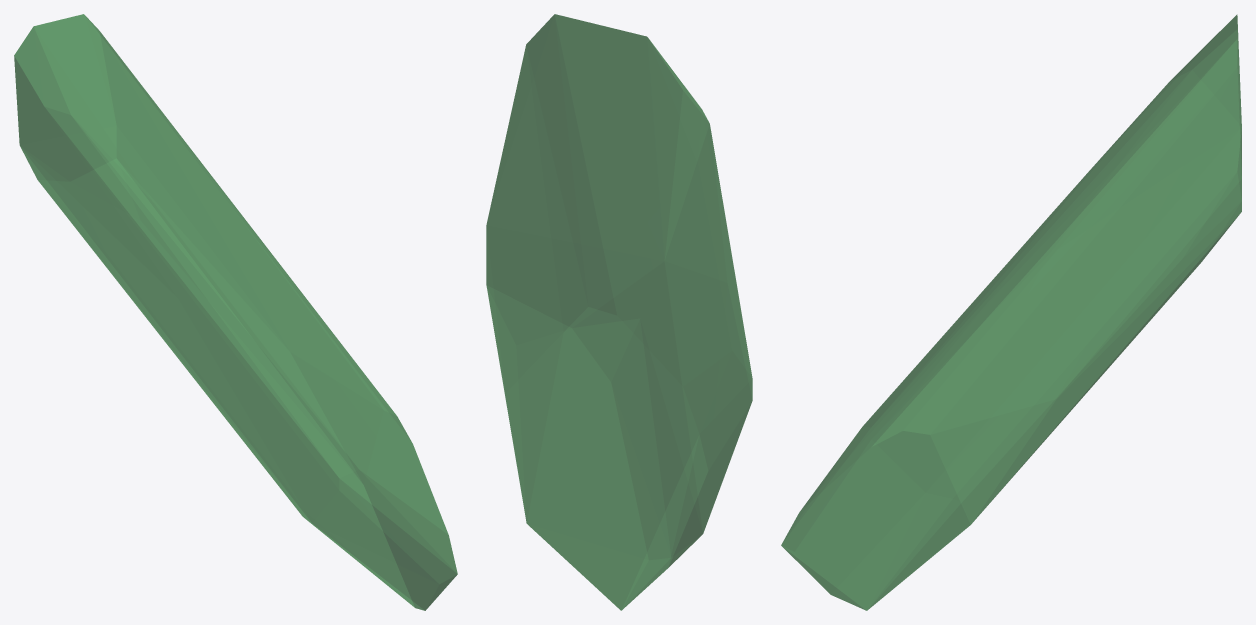
The picture shows the model from 3 angles, left to right: view 1: azimuth 30°, elevation 25°; view 2: azimuth 150°, elevation 25°; view 3: azimuth 270°, elevation 25°; orthographic projection. The views are drawn at different scales.
Visible parts, largest first — view 1: Shape_IndexedFaceSet.003_Shape_IndexedFaceSet.16454; view 2: Shape_IndexedFaceSet.003_Shape_IndexedFaceSet.16454; view 3: Shape_IndexedFaceSet.003_Shape_IndexedFaceSet.16454.
Boxes of the visible parts, x1,y1,x2,y2 form: Shape_IndexedFaceSet.003_Shape_IndexedFaceSet.16454: [14, 14, 457, 610]; Shape_IndexedFaceSet.003_Shape_IndexedFaceSet.16454: [486, 14, 752, 610]; Shape_IndexedFaceSet.003_Shape_IndexedFaceSet.16454: [781, 14, 1241, 610].
Size of the model in its own units: 0.1277 by 0.2782 by 0.2326.
